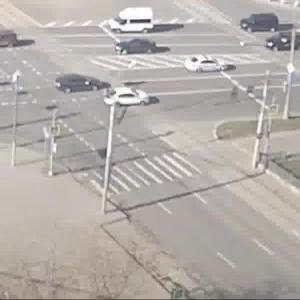car: (108, 3, 160, 38), (89, 87, 155, 110), (48, 72, 105, 94), (184, 54, 239, 76), (119, 32, 161, 60), (239, 11, 288, 32), (261, 28, 300, 54)
